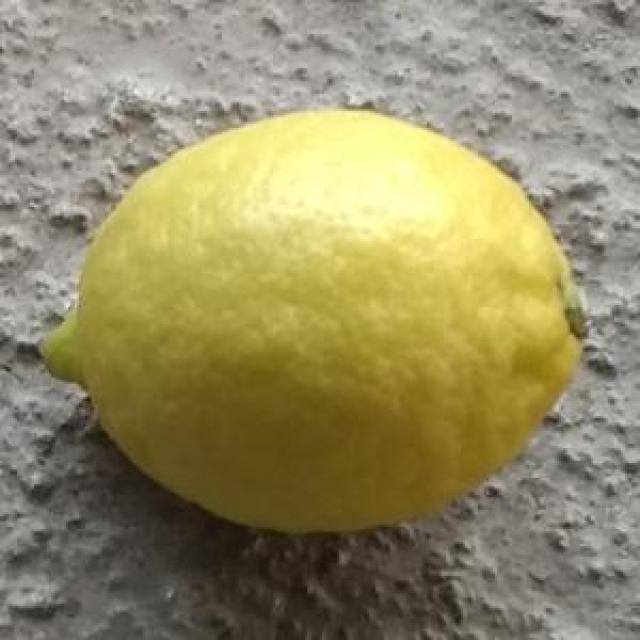lemon: (36, 102, 588, 538)
